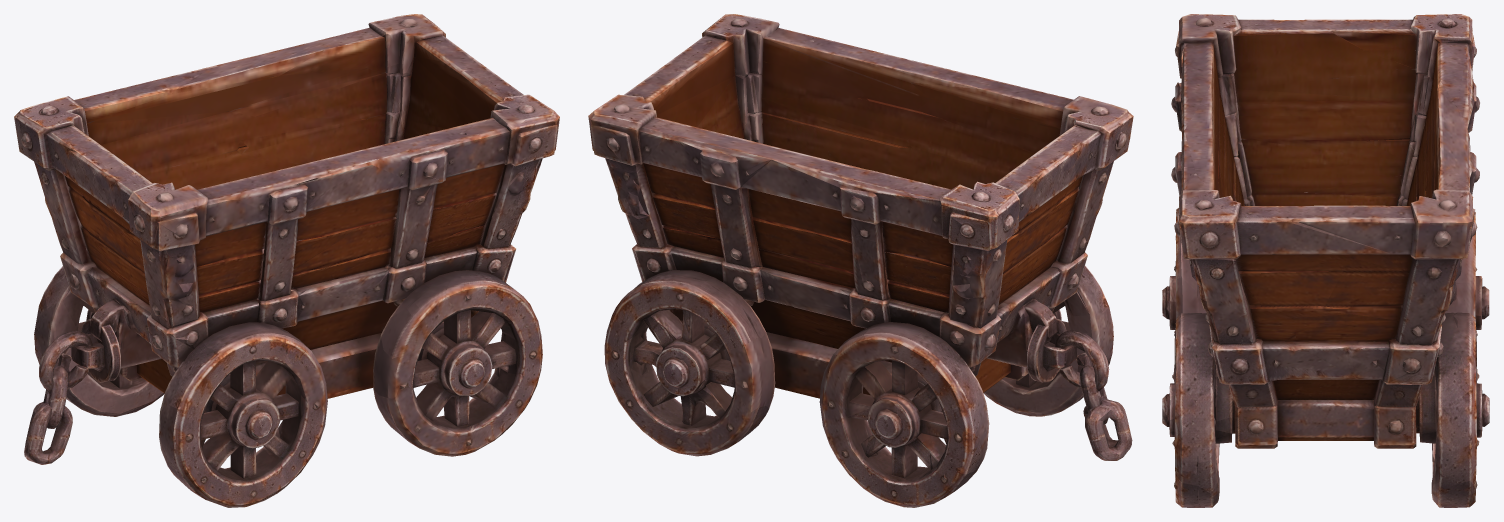
The model's file is cart.glb.
3 views of the same model, side by side, from view 1: azimuth 30°, elevation 25°; view 2: azimuth 150°, elevation 25°; view 3: azimuth 270°, elevation 25° (orthographic). The views are drawn at different scales.
Visible parts, largest first — view 1: Mesh_0; view 2: Mesh_0; view 3: Mesh_0.
Part boxes in pixels (x1,y1,x2,y2): Mesh_0: (14, 14, 559, 507); Mesh_0: (588, 14, 1133, 507); Mesh_0: (1162, 14, 1489, 507).
Size of the model in its own units: 1.9 by 1.25 by 1.1.
Materials: 1 (1 with a texture image).
